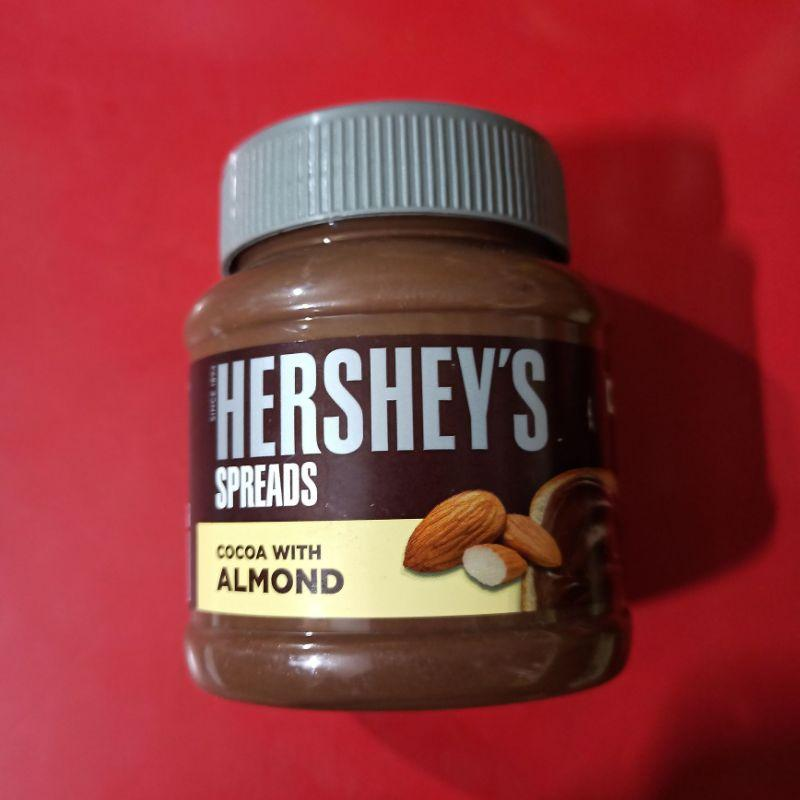Hershey-s: (180, 98, 635, 714)
